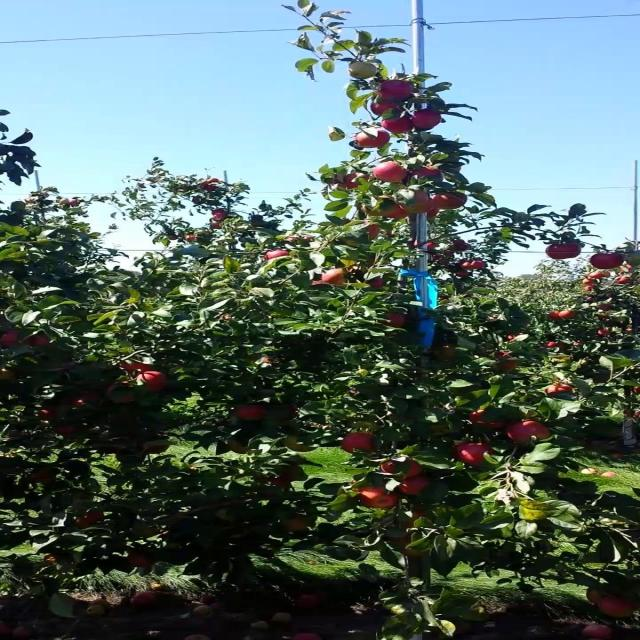apple: (504, 420, 555, 443), (355, 488, 400, 510), (454, 444, 498, 466), (340, 432, 379, 455), (390, 536, 428, 559), (376, 80, 416, 101), (134, 372, 171, 392), (604, 596, 636, 619), (383, 460, 425, 477), (362, 196, 396, 217), (376, 164, 411, 184), (589, 252, 626, 270), (468, 412, 505, 429), (404, 192, 432, 214), (355, 132, 391, 149), (433, 192, 469, 209), (397, 480, 434, 496), (106, 384, 137, 403), (234, 404, 268, 421), (547, 244, 583, 260), (412, 112, 443, 130), (319, 268, 350, 286), (340, 172, 372, 189), (404, 192, 430, 212), (284, 436, 316, 452), (77, 512, 107, 529), (404, 508, 428, 529), (348, 64, 379, 80), (70, 392, 101, 408), (383, 120, 412, 136), (404, 200, 432, 215), (383, 312, 409, 328), (369, 104, 402, 116), (547, 384, 576, 397), (227, 440, 252, 455), (77, 516, 105, 529), (262, 476, 292, 488), (390, 204, 411, 221), (127, 556, 155, 568), (419, 168, 444, 181), (120, 364, 155, 373), (284, 520, 309, 532), (28, 472, 53, 484), (56, 424, 78, 437), (148, 444, 171, 456), (28, 336, 50, 348), (497, 360, 519, 372), (461, 260, 485, 271), (6, 332, 21, 348), (284, 236, 313, 244), (589, 592, 608, 604), (369, 224, 384, 239), (440, 348, 457, 361), (42, 408, 57, 422), (428, 204, 441, 219), (269, 252, 292, 260), (6, 368, 20, 381), (582, 468, 601, 477), (420, 200, 434, 211), (369, 280, 384, 289), (625, 412, 638, 419), (49, 556, 59, 565)
